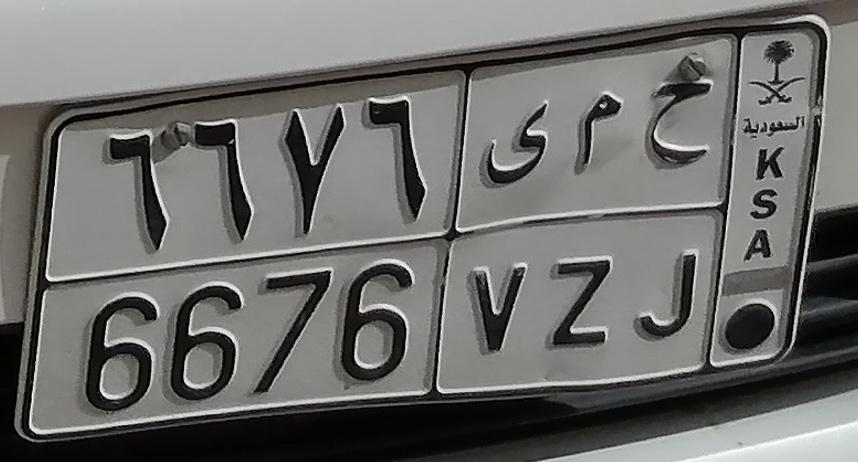6: (339, 94, 433, 389), (76, 128, 166, 413), (171, 117, 254, 401)
7: (252, 100, 346, 397)
J: (632, 75, 720, 348)
V: (464, 98, 549, 352)
Z: (549, 92, 626, 352)
